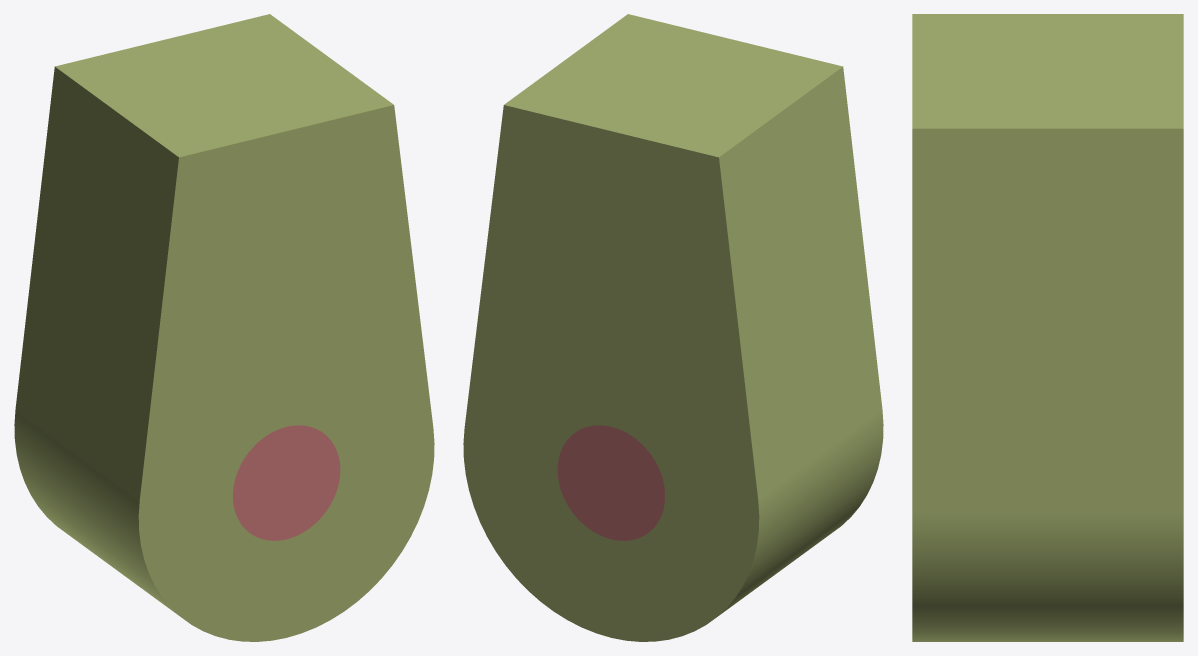
Rendered from step_08.glb.
3 renders of one model, left to right at view 1: azimuth 30°, elevation 25°; view 2: azimuth 150°, elevation 25°; view 3: azimuth 270°, elevation 25°, orthographic. The views are drawn at different scales.
Parts seen in each view (by area): view 1: part__swivel, removed__swivel; view 2: part__swivel, removed__swivel; view 3: part__swivel.
Part boxes in pixels (left/top/right/bottom): part__swivel: left=14, top=14, right=434, bottom=641; removed__swivel: left=233, top=425, right=340, bottom=540; part__swivel: left=463, top=14, right=883, bottom=641; removed__swivel: left=557, top=425, right=664, bottom=540; part__swivel: left=912, top=14, right=1183, bottom=641.
Size of the model in its own units: 43.99 by 72 by 32.
